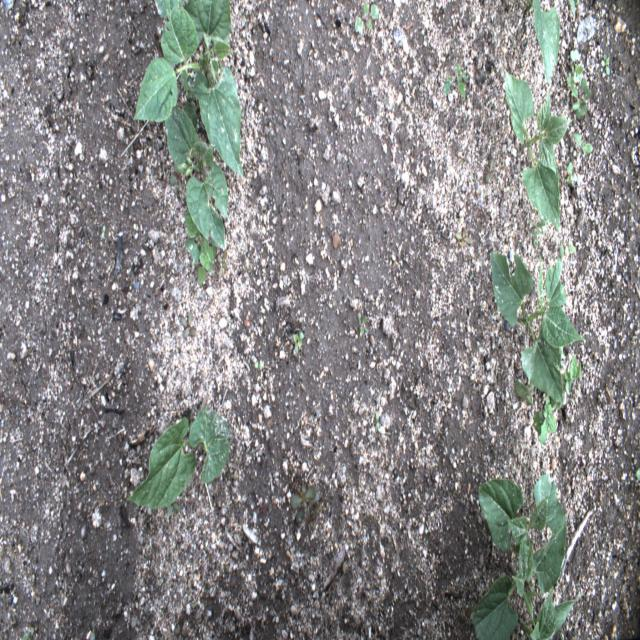crop: (133, 0, 244, 177), (462, 472, 578, 640), (490, 242, 586, 408), (125, 403, 232, 513), (504, 69, 574, 231), (162, 98, 228, 247), (533, 1, 559, 81), (567, 0, 580, 16)
weed: (184, 210, 218, 284), (290, 482, 320, 525), (568, 65, 591, 118), (533, 396, 556, 445), (443, 60, 466, 100), (352, 0, 378, 33), (563, 356, 581, 397), (169, 160, 187, 192), (180, 312, 199, 339), (572, 133, 593, 156), (455, 228, 473, 250), (534, 220, 547, 250), (565, 158, 578, 187), (292, 330, 306, 356), (484, 156, 494, 186), (219, 249, 229, 278), (357, 313, 368, 336), (600, 54, 610, 75), (23, 627, 37, 639), (564, 242, 576, 255), (634, 465, 640, 485), (374, 413, 380, 432), (253, 360, 263, 371), (100, 225, 106, 238)
